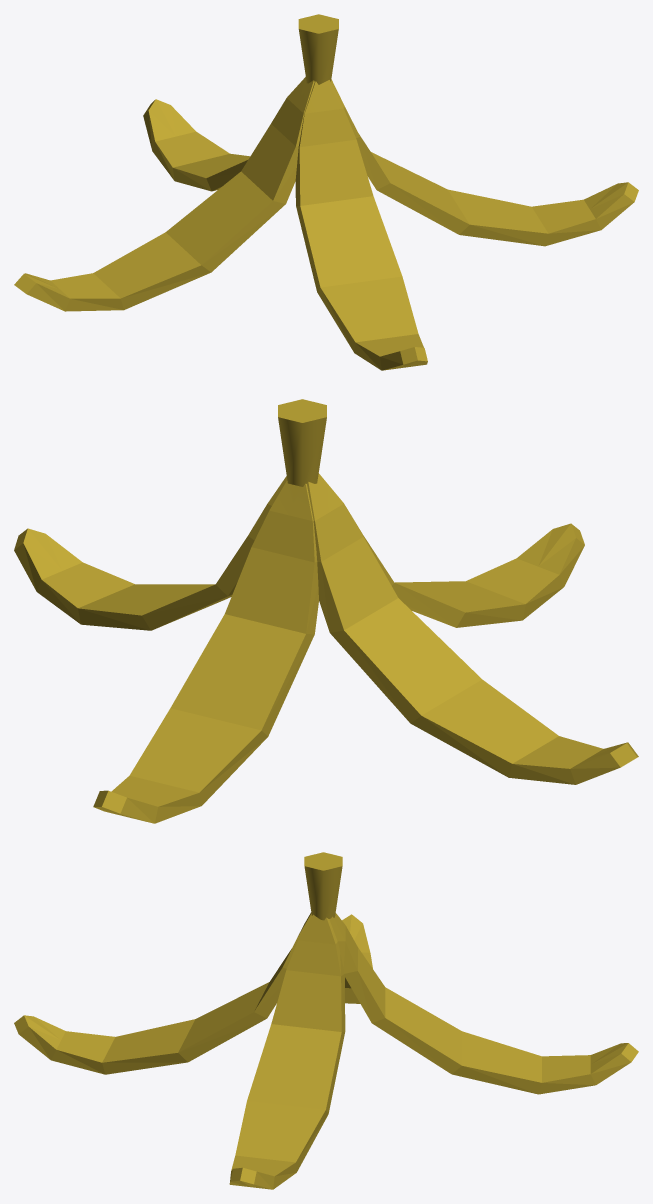
File: Banana.FBX
3 renders of one model, top to bottom at view 1: azimuth 30°, elevation 25°; view 2: azimuth 150°, elevation 25°; view 3: azimuth 270°, elevation 25°, orthographic. The views are drawn at different scales.
Parts seen in each view (by area): view 1: Banana; view 2: Banana; view 3: Banana.
Part boxes in pixels (x1,y1,x2,y2): Banana: (14, 14, 638, 370); Banana: (14, 399, 638, 823); Banana: (14, 852, 638, 1189).
Size of the model in its own units: 84.31 by 85 by 33.13.
